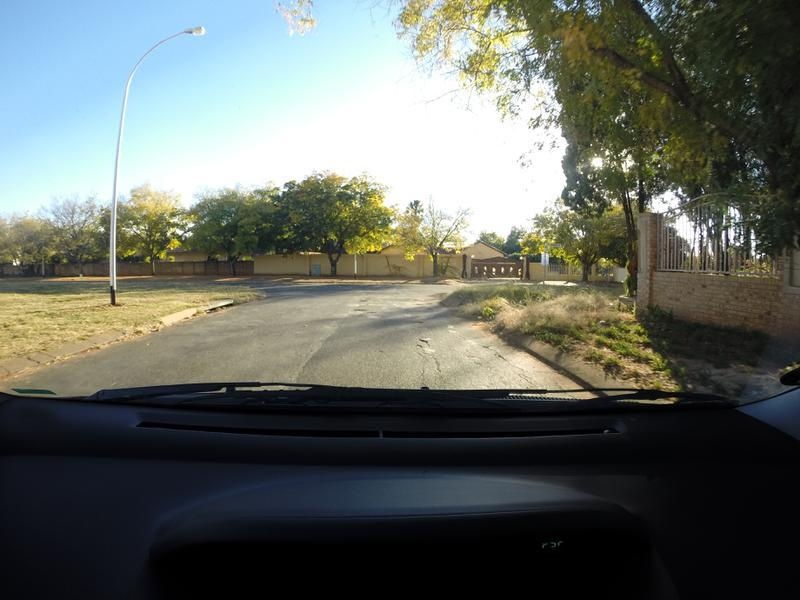pothole: (480, 344, 494, 352), (401, 317, 422, 322), (345, 307, 364, 312), (495, 354, 505, 361), (419, 337, 429, 342), (359, 297, 365, 305)
